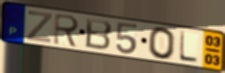5: (114, 21, 139, 55)
B: (84, 17, 113, 52)
L: (178, 30, 200, 65)
O: (147, 26, 177, 61)
R: (52, 13, 82, 50)
Z: (25, 10, 54, 45)
